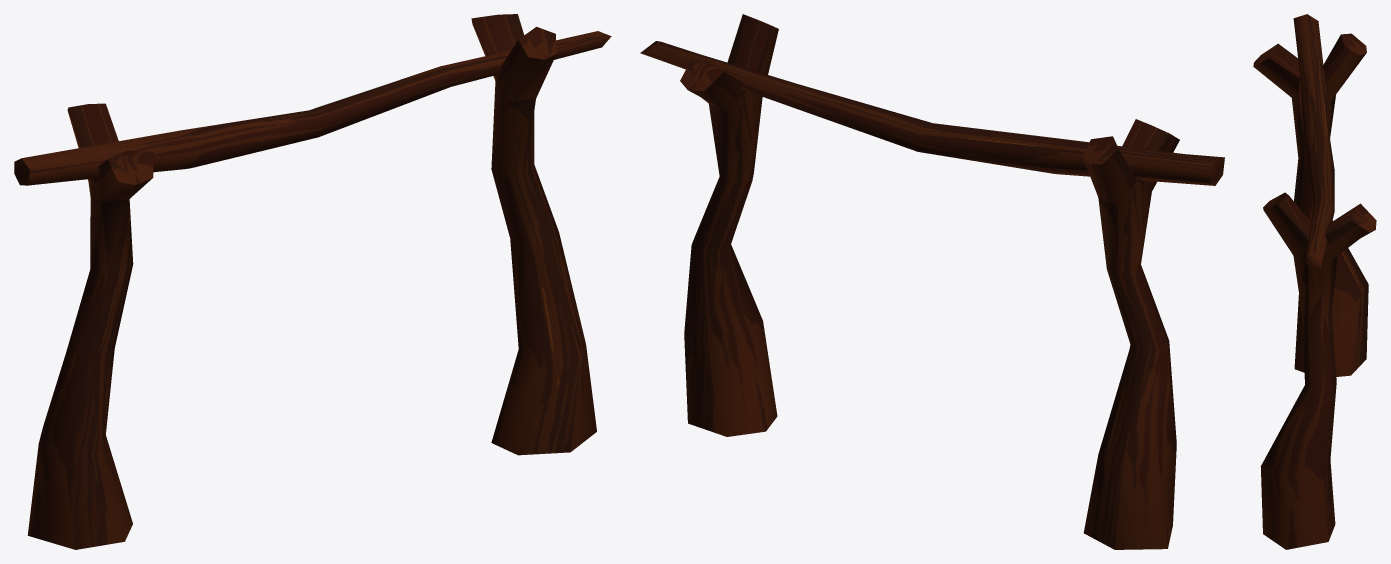
File: SM_PROP_campfire_poles.fbx
The picture shows the model from 3 angles, left to right: view 1: azimuth 30°, elevation 25°; view 2: azimuth 150°, elevation 25°; view 3: azimuth 270°, elevation 25°; orthographic projection. The views are drawn at different scales.
Visible parts, largest first — view 1: SM_PROP_campfire_poles; view 2: SM_PROP_campfire_poles; view 3: SM_PROP_campfire_poles.
Part boxes in pixels (x1,y1,x2,y2): SM_PROP_campfire_poles: [14, 14, 611, 549]; SM_PROP_campfire_poles: [640, 14, 1224, 549]; SM_PROP_campfire_poles: [1253, 14, 1376, 549].
Bounding box in the file's own units: 168 × 113 × 37.86.
